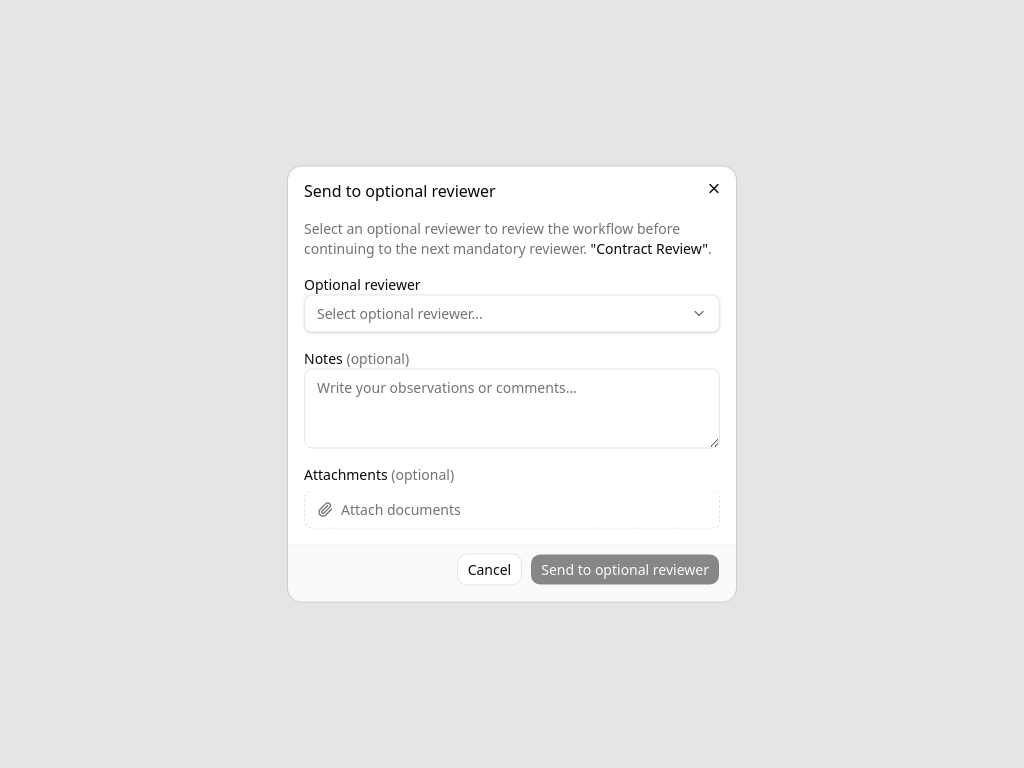
Test: ForwardStepDialog — optional reviewer selector › shows the participant name resolved server-side, not the raw user ID, for a viewer without USERS:READ
Click the button "Select optional reviewer..." at (400, 313), box [304,294,720,332]
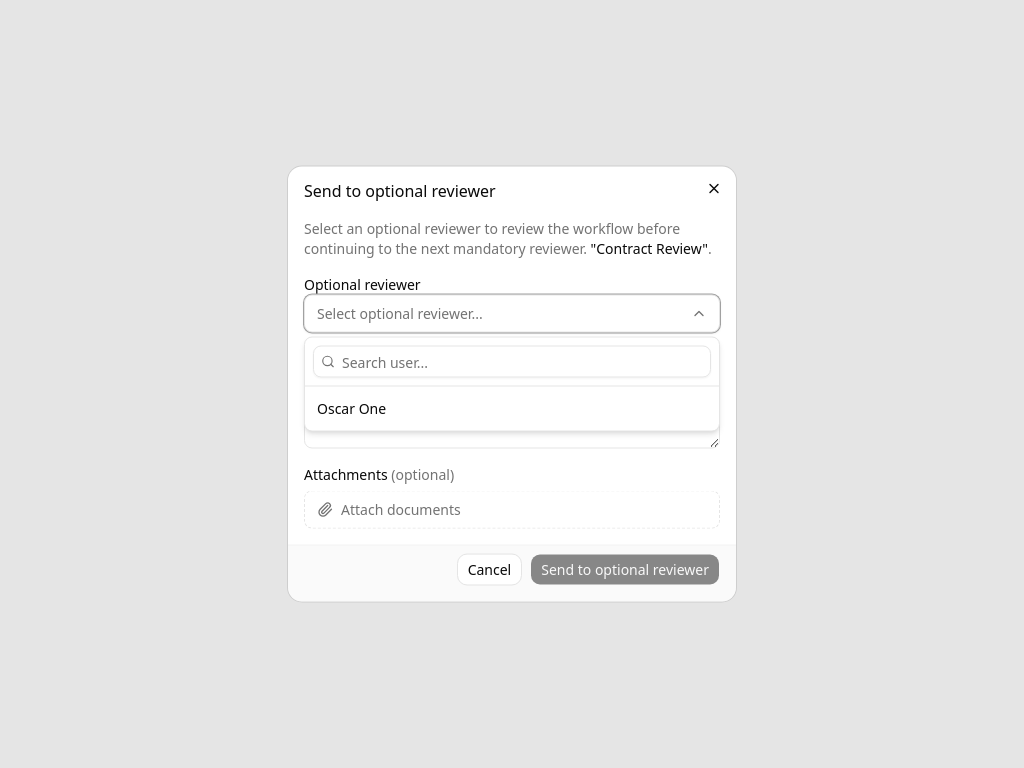
Now the text "Oscar One" is shown, box [317,398,386,418]
